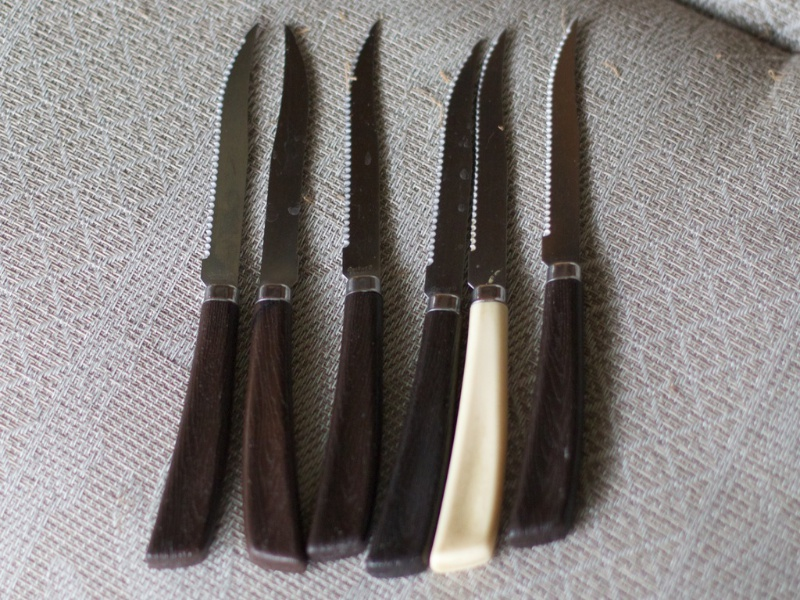knife: (136, 4, 591, 574), (139, 15, 261, 571), (423, 24, 512, 574), (302, 7, 386, 565), (241, 18, 309, 576), (518, 10, 582, 544)
